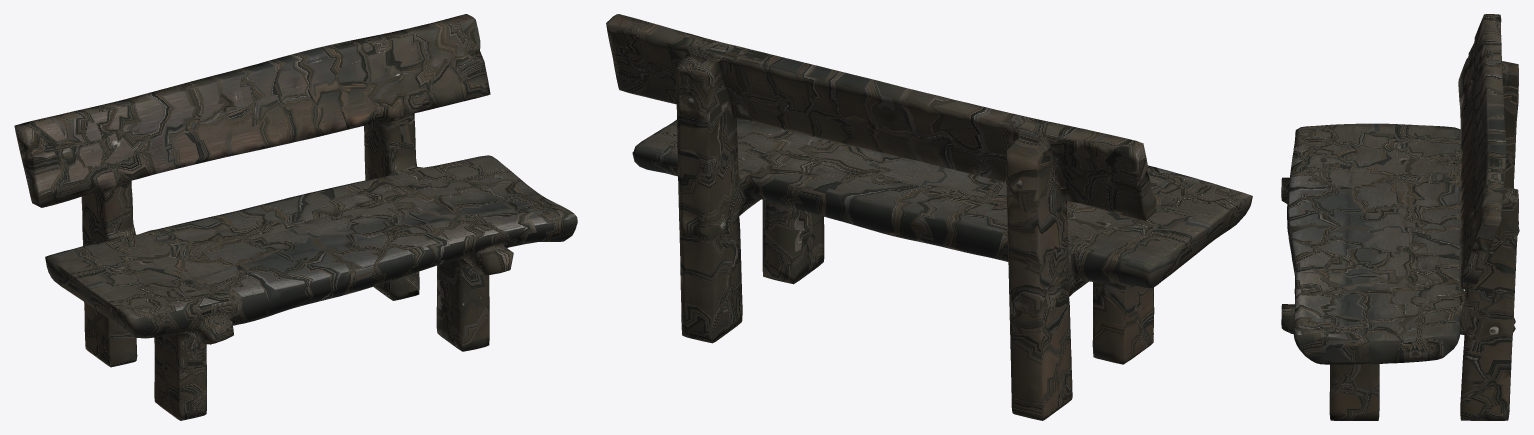
The model's file is bench.glb.
3 renders of one model, left to right at view 1: azimuth 30°, elevation 25°; view 2: azimuth 150°, elevation 25°; view 3: azimuth 270°, elevation 25°, orthographic. The views are drawn at different scales.
Size of the model in its own units: 1.9 by 0.9966 by 0.9178.
Materials: 1 (1 with a texture image).
